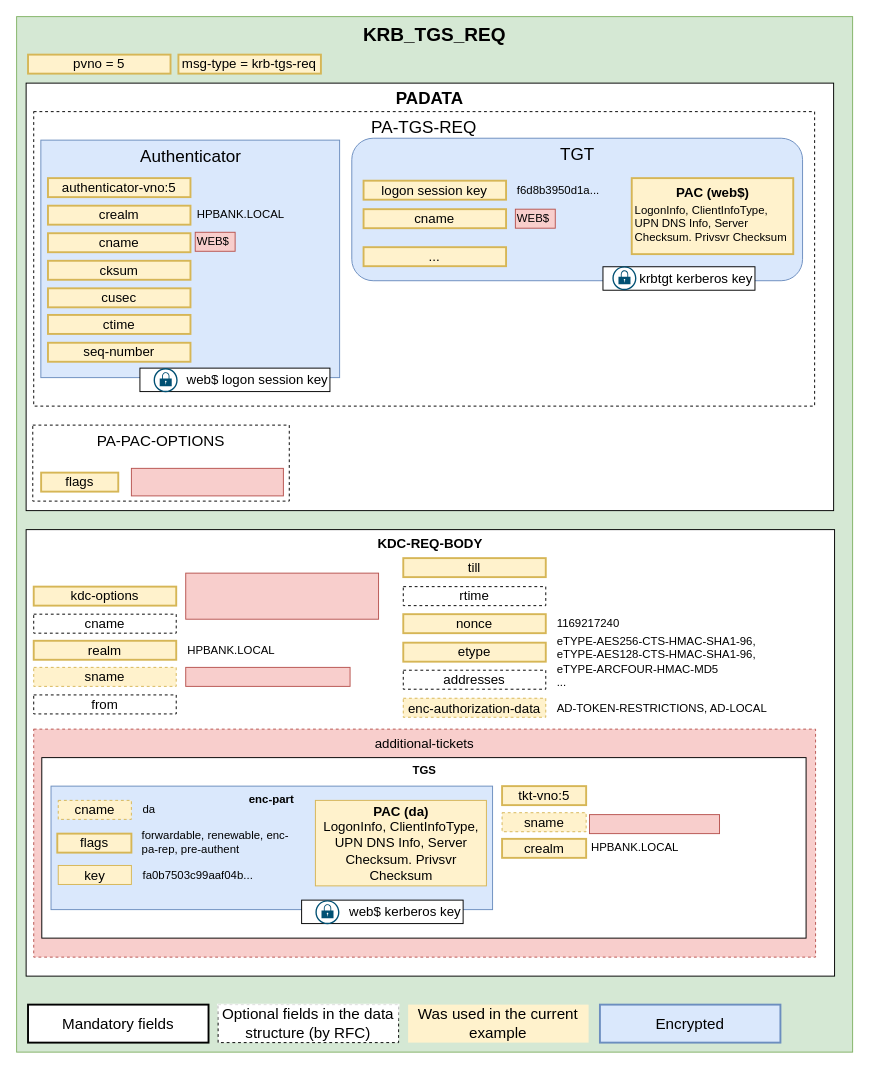
This 869x1069 diagram has some shape labels left out. Here are the shapes that lost their labels. From the top down, the centre of each, then its label:
At pixel 206 481: "recource-based-constrained-delegation".
At pixel 282 595: "forwardable, renewable, canonicalize, constrained-delegation".
At pixel 267 676: "MSSQL/mssql01.hpbank.local".
At pixel 654 824: "HTTP/web.hpbank.local".
